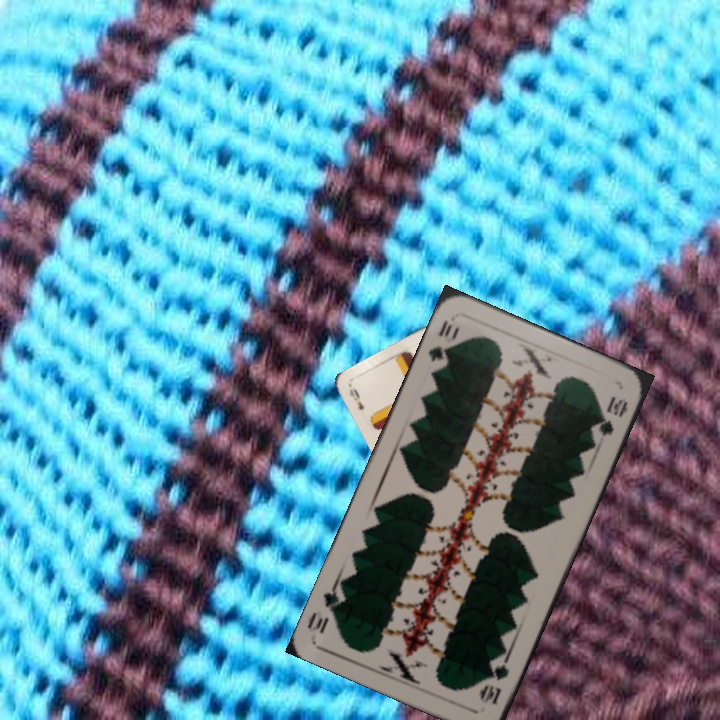E9: (345, 384, 367, 413)
G10: (475, 654, 512, 707), (424, 315, 457, 365)
